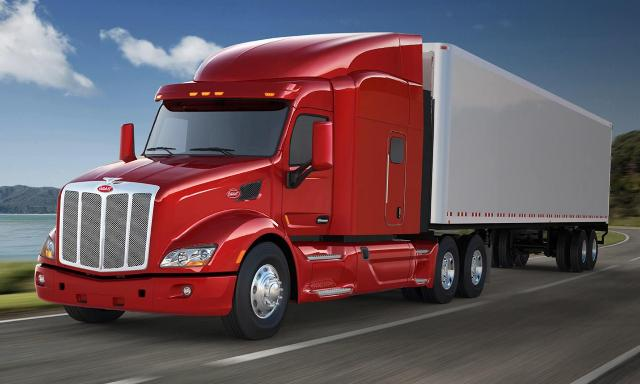truck: (15, 27, 637, 333)
